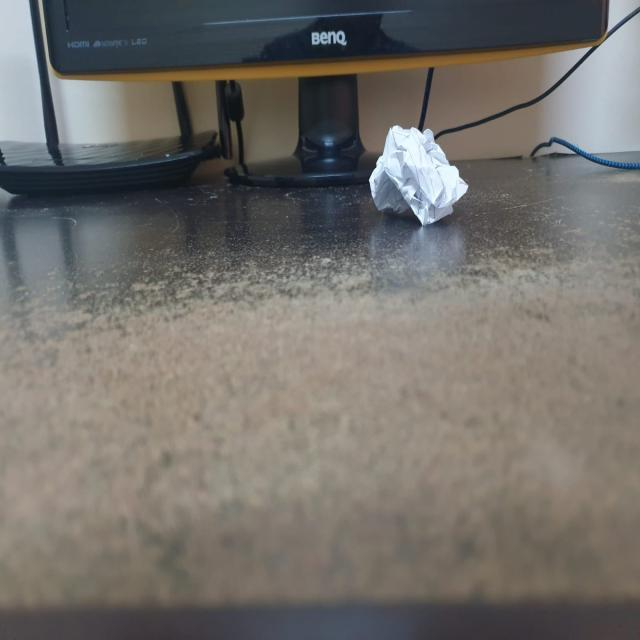Paper: (369, 136, 469, 222)
